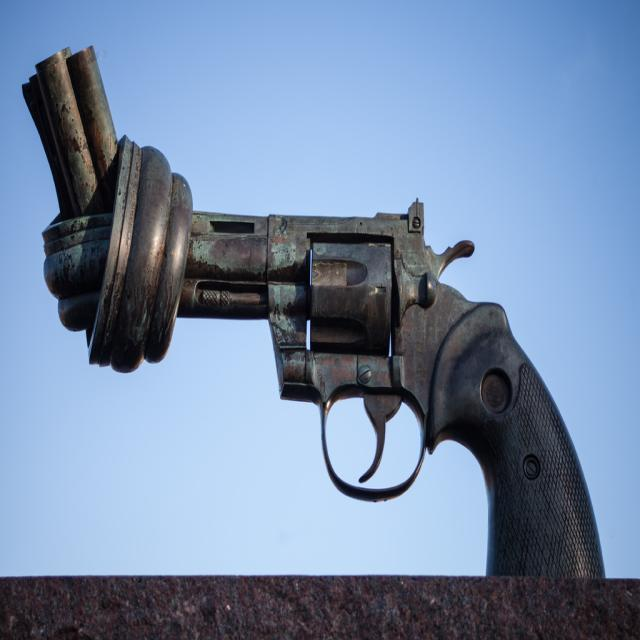Gun: (178, 202, 605, 579)
